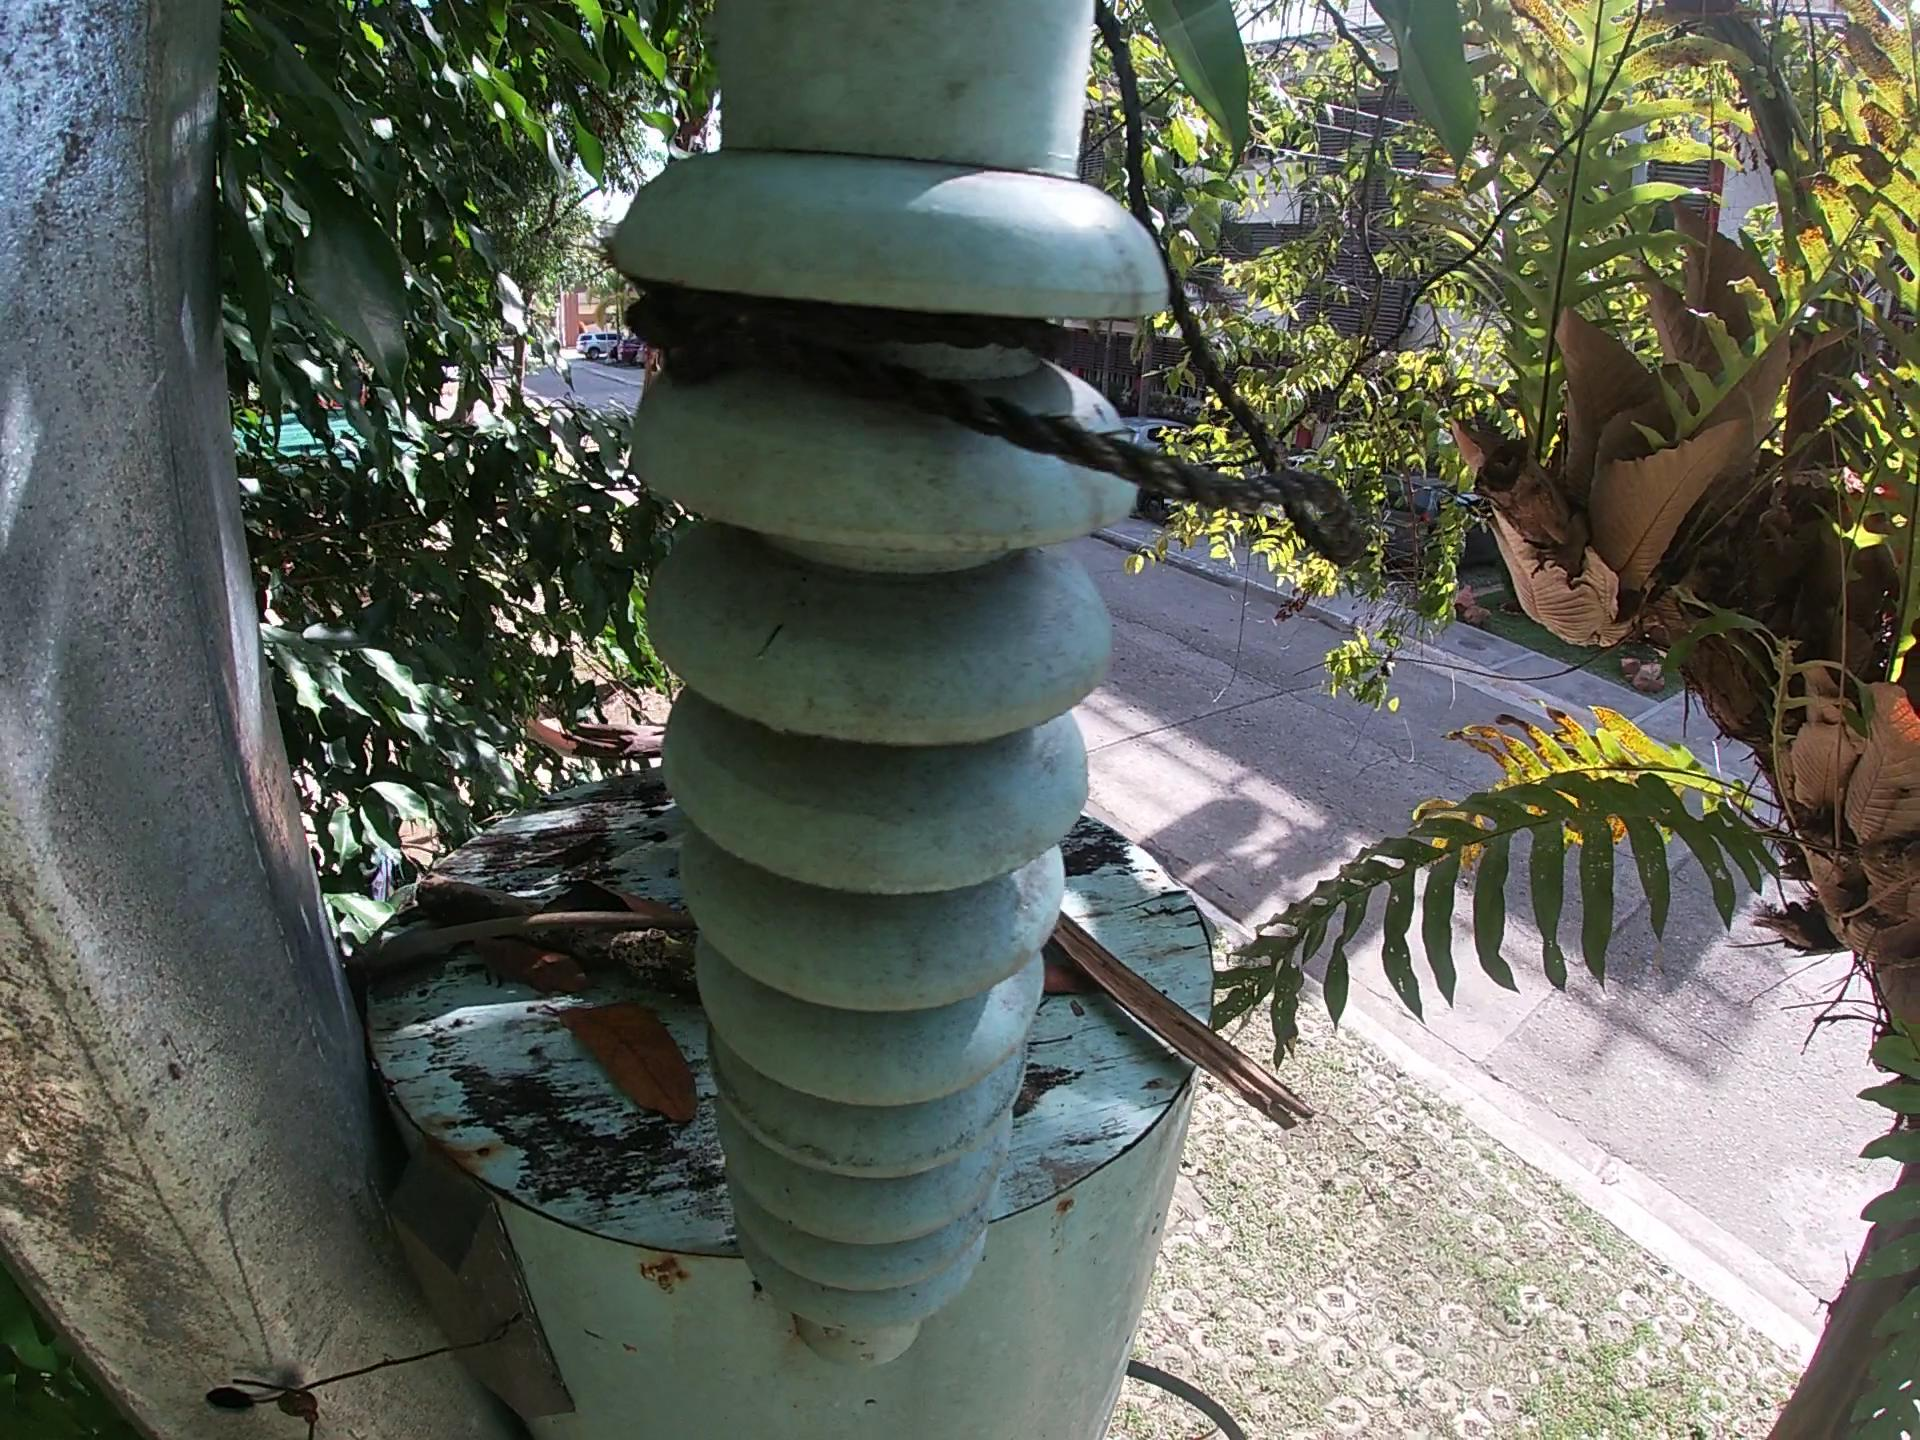leaf: (541, 995, 708, 1131), (467, 933, 588, 995), (538, 879, 674, 915)
tree branch: (1048, 908, 1321, 1136), (410, 871, 717, 994), (333, 902, 698, 991), (553, 712, 671, 768)
